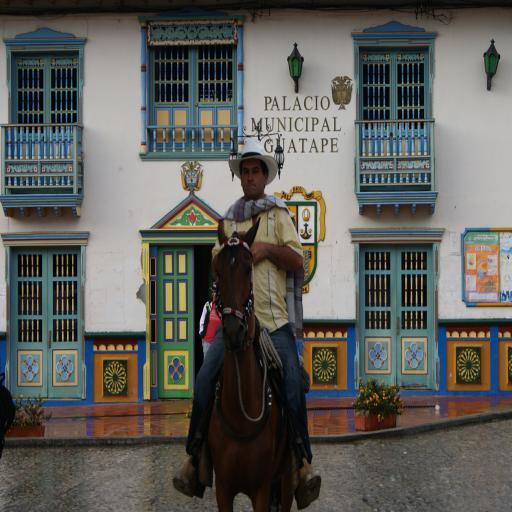horse: (206, 216, 290, 512)
